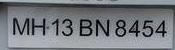1: (50, 17, 61, 37)
3: (61, 18, 74, 37)
4: (155, 18, 169, 37), (129, 18, 141, 38)
5: (142, 18, 154, 40)
8: (114, 18, 127, 40)
B: (78, 17, 94, 37)
H: (31, 15, 49, 38)
M: (10, 14, 31, 36)
N: (95, 16, 110, 39)
